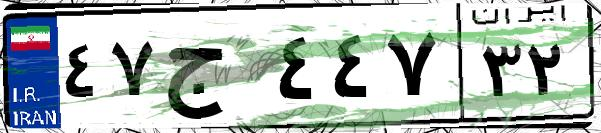2: (525, 38, 570, 115)
3: (475, 38, 525, 113)
4: (270, 28, 330, 110), (330, 28, 385, 110), (57, 26, 110, 100)
7: (385, 28, 445, 110), (110, 28, 158, 98)
ج: (158, 20, 270, 120)
